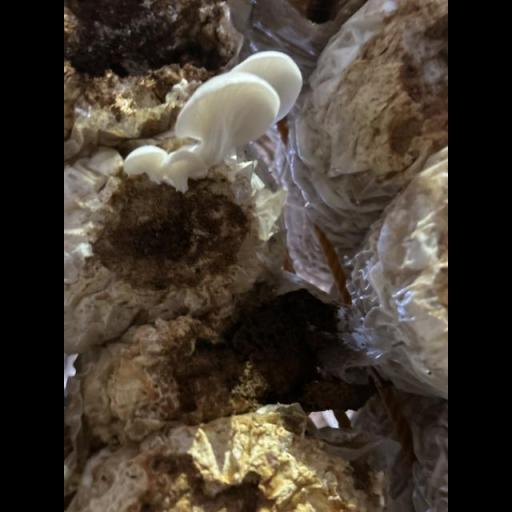White Oyster Mushroom: (99, 38, 302, 196)
